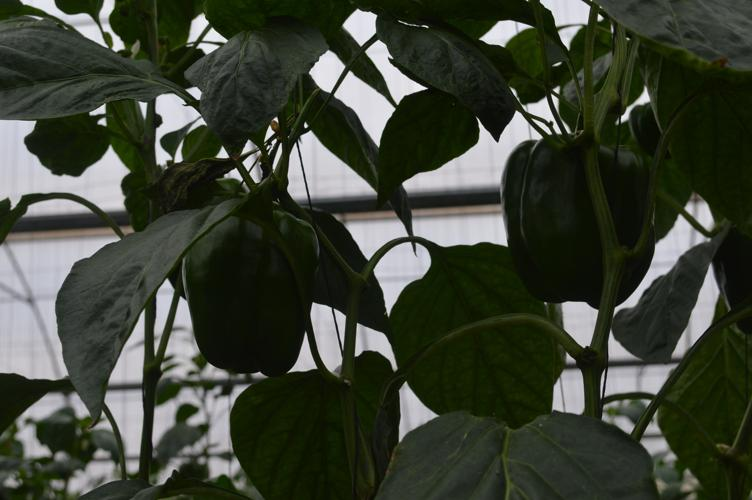BellPepper: (497, 123, 663, 316), (172, 194, 325, 381)
